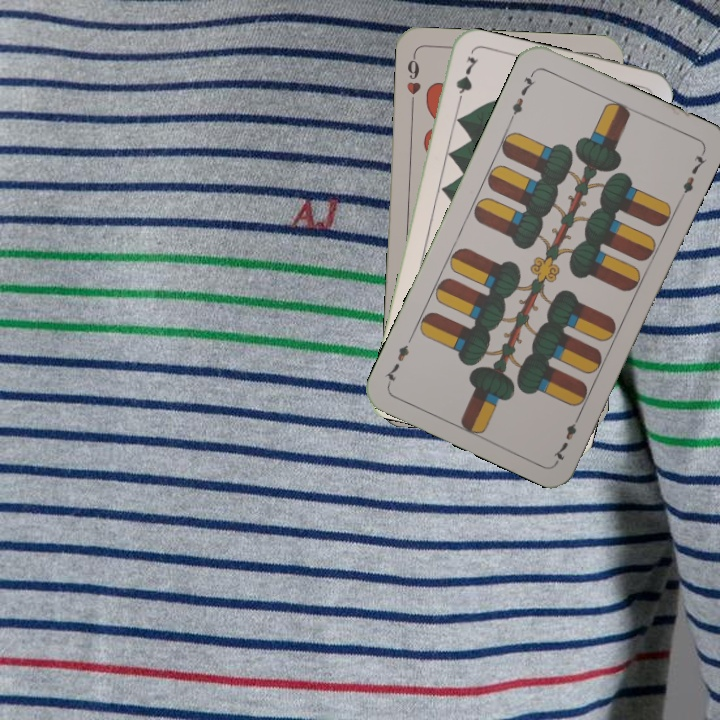E7: (549, 409, 584, 465), (506, 67, 537, 123)
G7: (452, 52, 481, 111)
H9: (403, 51, 423, 110)
